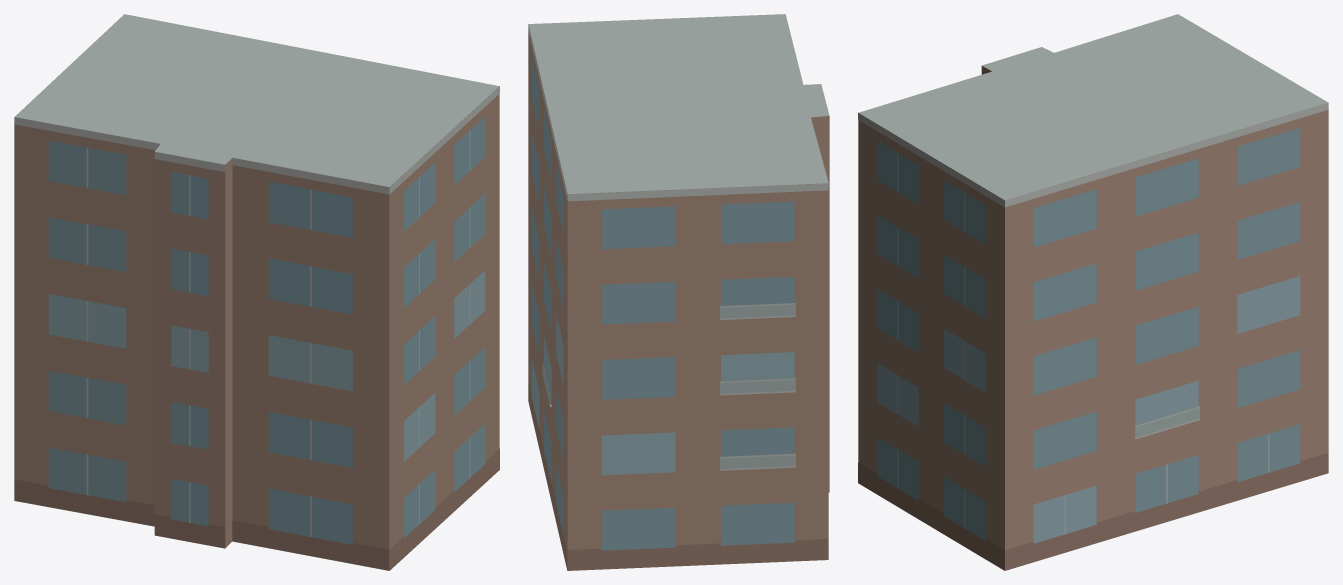
Rendered from survey-upis-32815648.glb.
The picture shows the model from 3 angles, left to right: view 1: azimuth 30°, elevation 25°; view 2: azimuth 150°, elevation 25°; view 3: azimuth 270°, elevation 25°; orthographic projection. The views are drawn at different scales.
Parts seen in each view (by area): view 1: survey-upis-32815648.tmp; view 2: survey-upis-32815648.tmp; view 3: survey-upis-32815648.tmp.
Part boxes in pixels (x1,y1,x2,y2): survey-upis-32815648.tmp: (14,14,499,570); survey-upis-32815648.tmp: (528,14,829,570); survey-upis-32815648.tmp: (858,14,1328,570).
Size of the model in its own units: 13.79 by 12.77 by 14.7.
